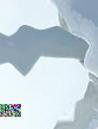faulty: (13, 23, 88, 71)
